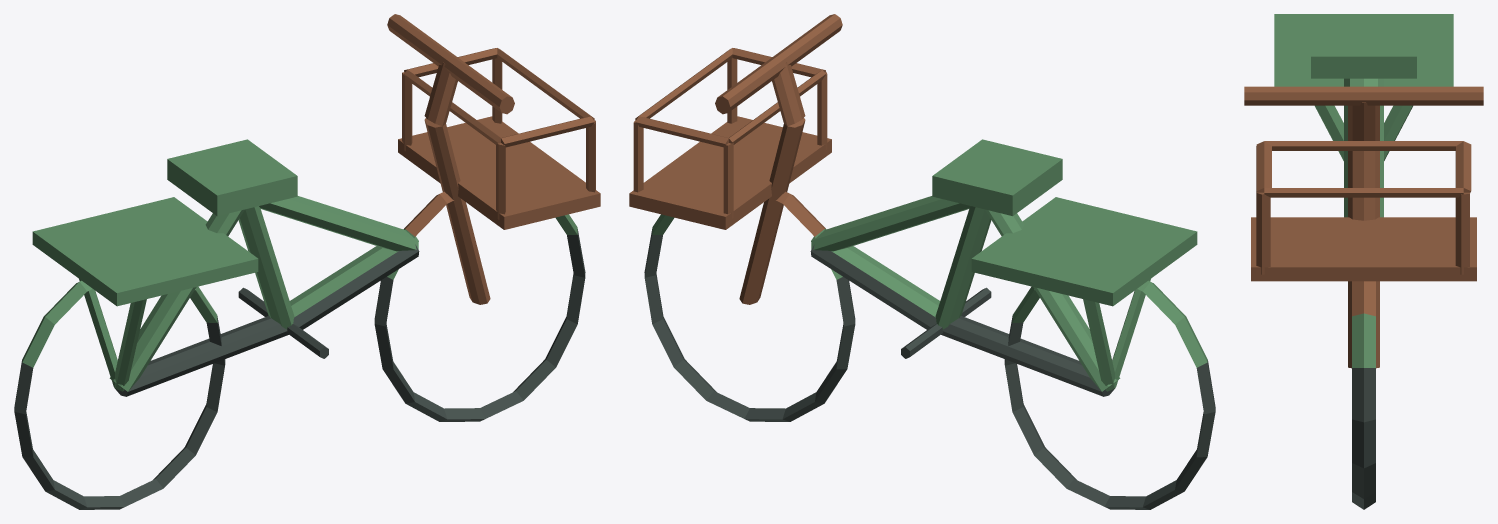
Rendered from vintage-step-through-bicycle-visible-low.glb.
3 renders of one model, left to right at view 1: azimuth 30°, elevation 25°; view 2: azimuth 150°, elevation 25°; view 3: azimuth 270°, elevation 25°, orthographic. The views are drawn at different scales.
Visible parts, largest first — view 1: vintage-step-through-bicycle; view 2: vintage-step-through-bicycle; view 3: vintage-step-through-bicycle.
Boxes of the visible parts, <box> form: vintage-step-through-bicycle: <box>14,14,600,509</box>; vintage-step-through-bicycle: <box>629,14,1215,509</box>; vintage-step-through-bicycle: <box>1244,14,1483,509</box>.
Bounding box in the file's own units: 1.76 × 1.1 × 0.6.
